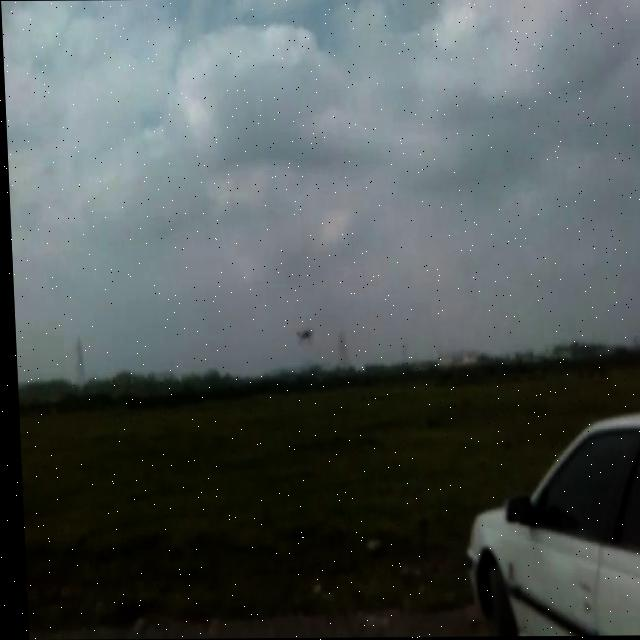drone: (289, 321, 310, 343)
